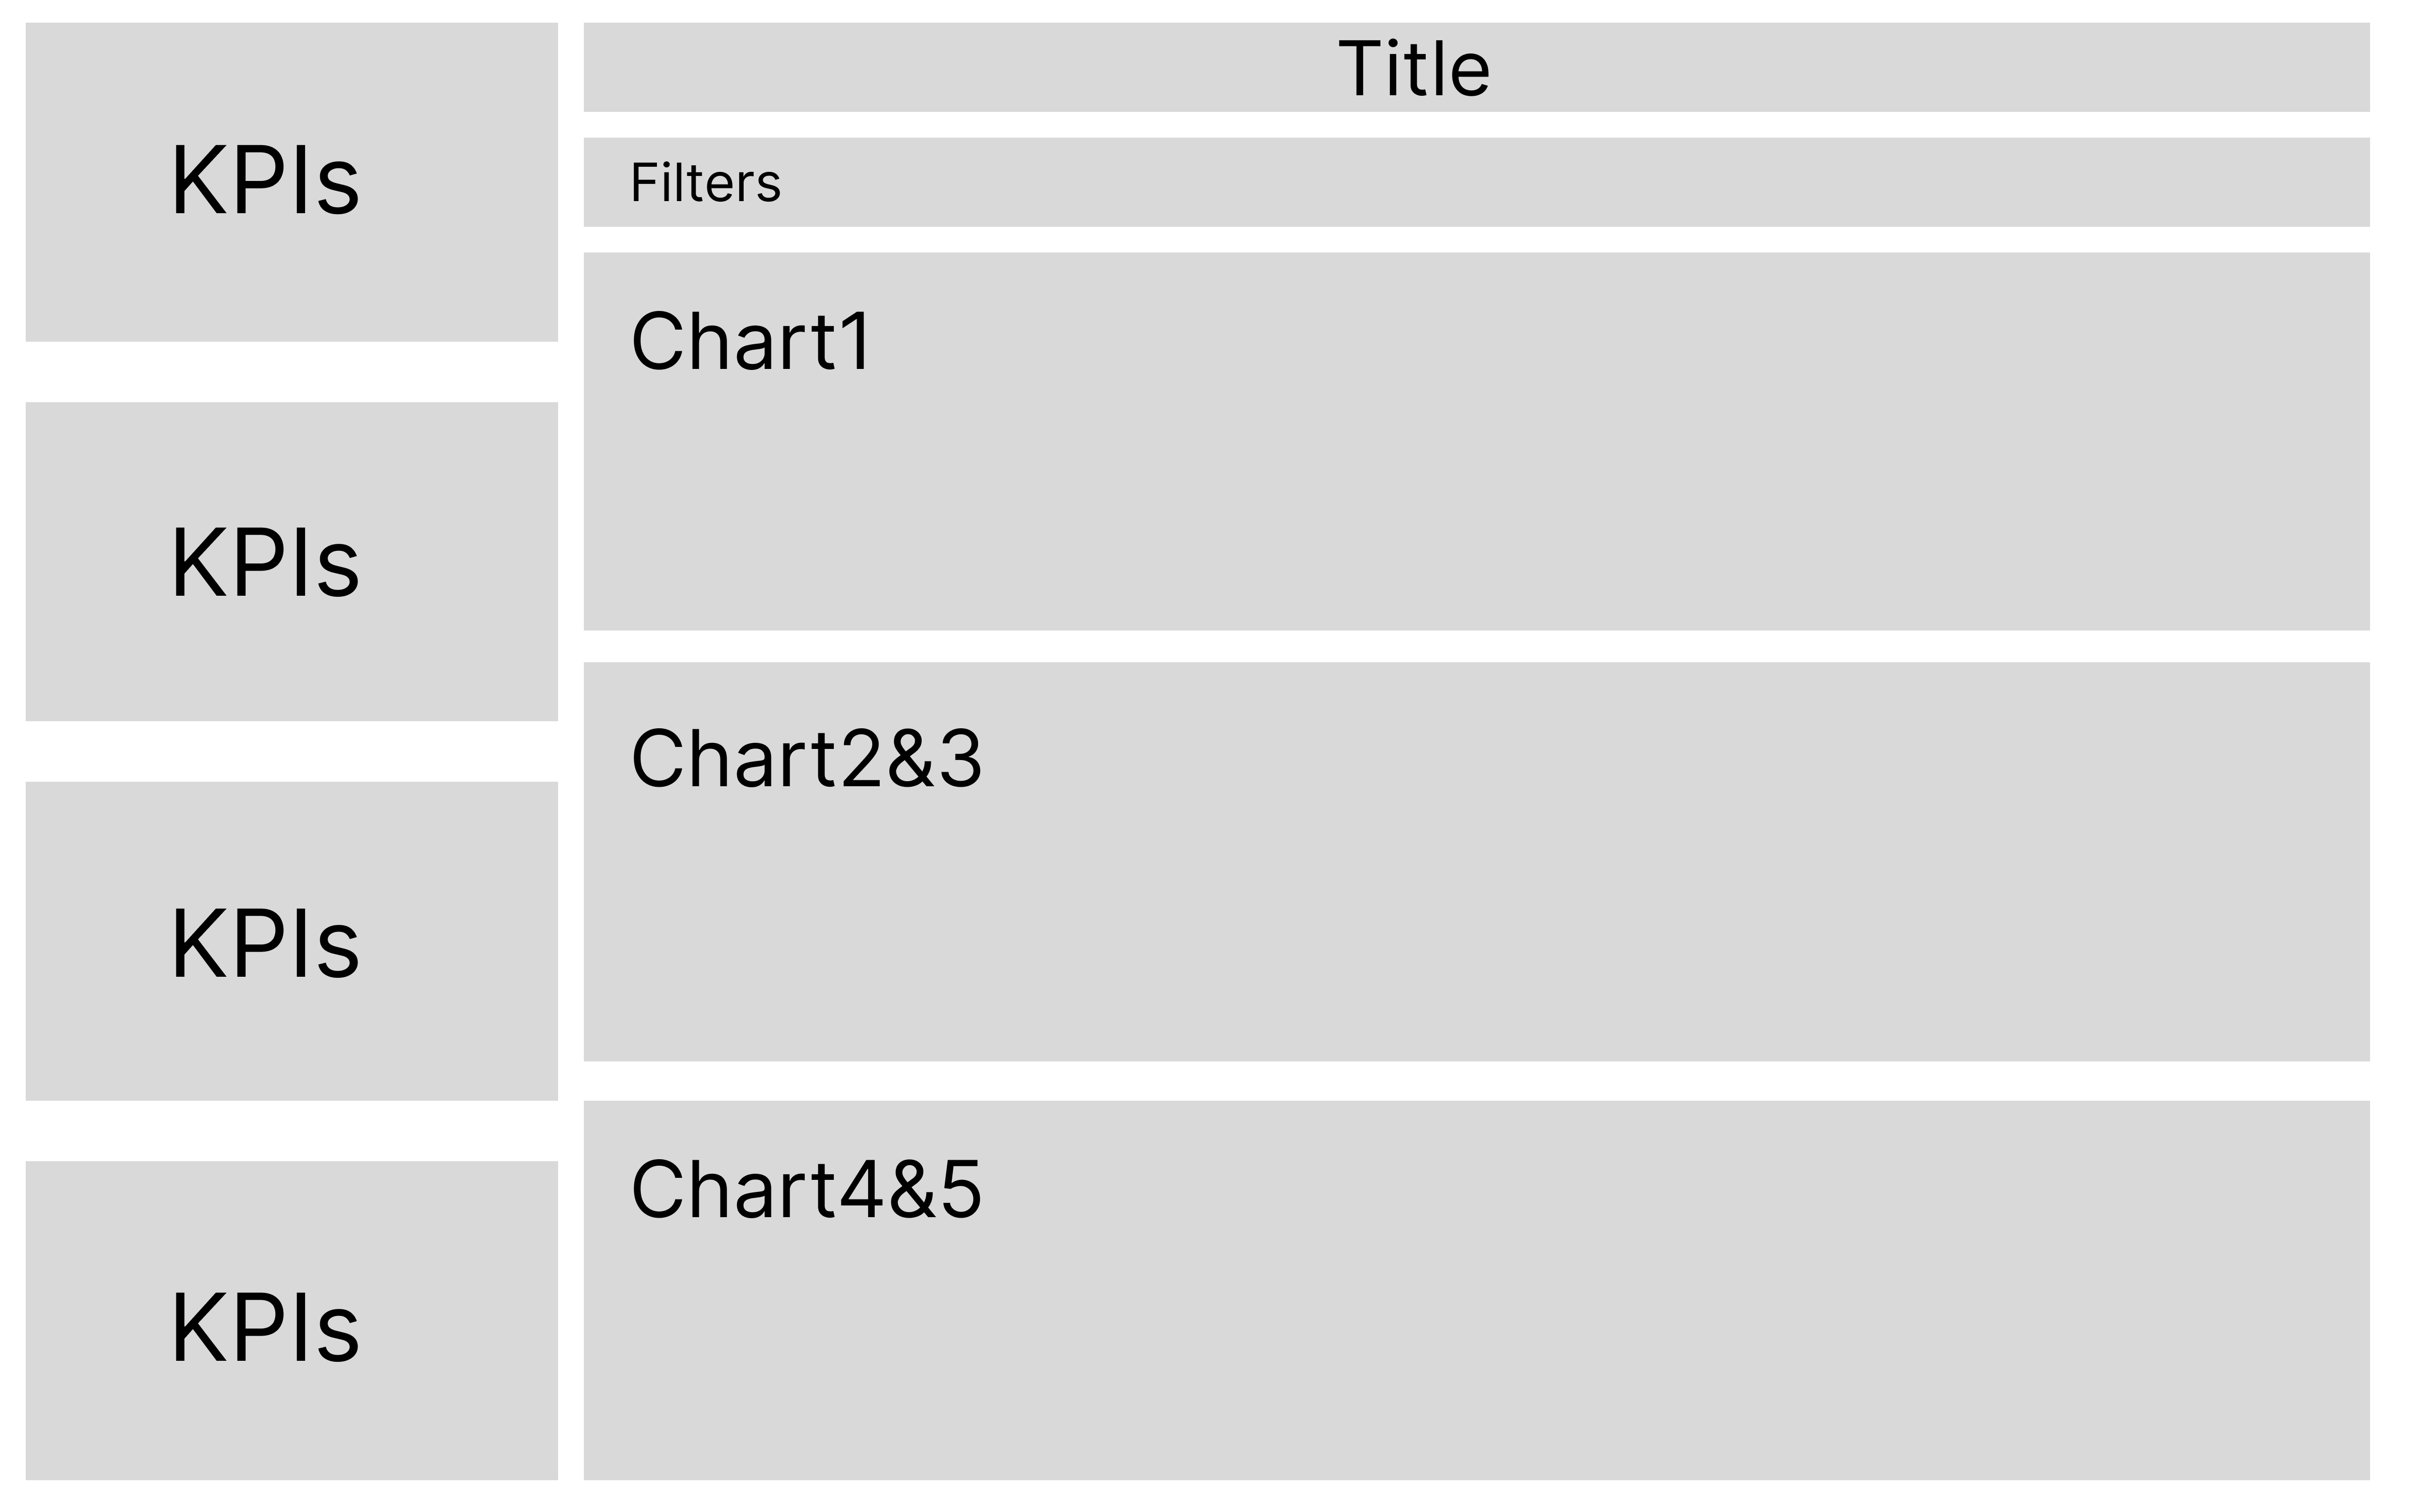

This screenshot's page, from the dashboard's own definition file:
{"tool":"tableau","page":{"name":"Dashboard 1","canvas":[1600,1000],"ordinal":0},"visuals":[{"type":"worksheet","title":"kpi1","mark":"Line","rows":["Calculation_1406888974843910"],"cols":["SHIP_DATE"],"box":[8,8,352,246]},{"type":"text","box":[360,8,1232,54]},{"type":"parameter","param":"[Parameters].[Parameter 1]","box":[360,62,247,65]},{"type":"filter","title":"kpi1","param":"[federated.1cuuh3r0gpd1wt1fzi9ma15irzsm].[none:CATEGORY:nk]","box":[607,62,247,65]},{"type":"filter","title":"kpi1","param":"[federated.1cuuh3r0gpd1wt1fzi9ma15irzsm].[none:DEFECT_TYPE:nk]","box":[854,62,246,65]},{"type":"filter","title":"kpi1","param":"[federated.1cuuh3r0gpd1wt1fzi9ma15irzsm].[none:INSPECTION_STATUS:nk]","box":[1100,62,246,65]},{"type":"filter","title":"kpi1","param":"[federated.1cuuh3r0gpd1wt1fzi9ma15irzsm].[none:REGION:nk]","box":[1346,62,246,65]},{"type":"worksheet","title":"chart1","mark":"Automatic","rows":["min/max quanity (copy)_1406889061957679"],"cols":["SHIP_DATE"],"box":[360,127,1232,241]},{"type":"worksheet","title":"kpi2","mark":"Automatic","rows":["min/max shipping cost (copy)_1406888998326294"],"cols":["SHIP_DATE"],"box":[8,254,352,246]},{"type":"worksheet","title":"chart3","mark":"Square","box":[360,368,616,328]},{"type":"worksheet","title":"chart2","mark":"Multipolygon","box":[976,368,616,328]},{"type":"worksheet","title":"kpi3","mark":"Line","rows":["min/max failure (copy)_1406889032564777"],"cols":["SHIP_DATE"],"box":[8,500,352,246]},{"type":"worksheet","title":"chart4","mark":"Bar","rows":["CATEGORY"],"cols":["CY shipping cost (copy)_1406888995442705","Calculation_1406889031933990","Calculation_1406888969895938"],"box":[360,696,616.5,296]},{"type":"worksheet","title":"chart5","mark":"Automatic","rows":["Calculation_0835142706839560"],"cols":["Calculation_0835142696239105"],"box":[976.5,696,615.5,296]},{"type":"worksheet","title":"kpi4","mark":"Automatic","rows":["min/max lead time days (copy)_1406889008521245"],"cols":["SHIP_DATE"],"box":[8,746,352,246]}]}

Visuals, with their boxes in screenshot pixels (x1, y1, x2, y2), scaled from the page's 1600x1000 canvas onto the 2420x1512 screenshot:
"kpi1" worksheet (Line marks): (12,12,544,384)
text: (544,12,2408,94)
parameter: (544,94,918,192)
"kpi1" filter: (918,94,1292,192)
"kpi1" filter: (1292,94,1664,192)
"kpi1" filter: (1664,94,2036,192)
"kpi1" filter: (2036,94,2408,192)
"chart1" worksheet: (544,192,2408,556)
"kpi2" worksheet: (12,384,544,756)
"chart3" worksheet (Square marks): (544,556,1476,1052)
"chart2" worksheet (Multipolygon marks): (1476,556,2408,1052)
"kpi3" worksheet (Line marks): (12,756,544,1128)
"chart4" worksheet (Bar marks): (544,1052,1477,1500)
"chart5" worksheet: (1477,1052,2408,1500)
"kpi4" worksheet: (12,1128,544,1500)
